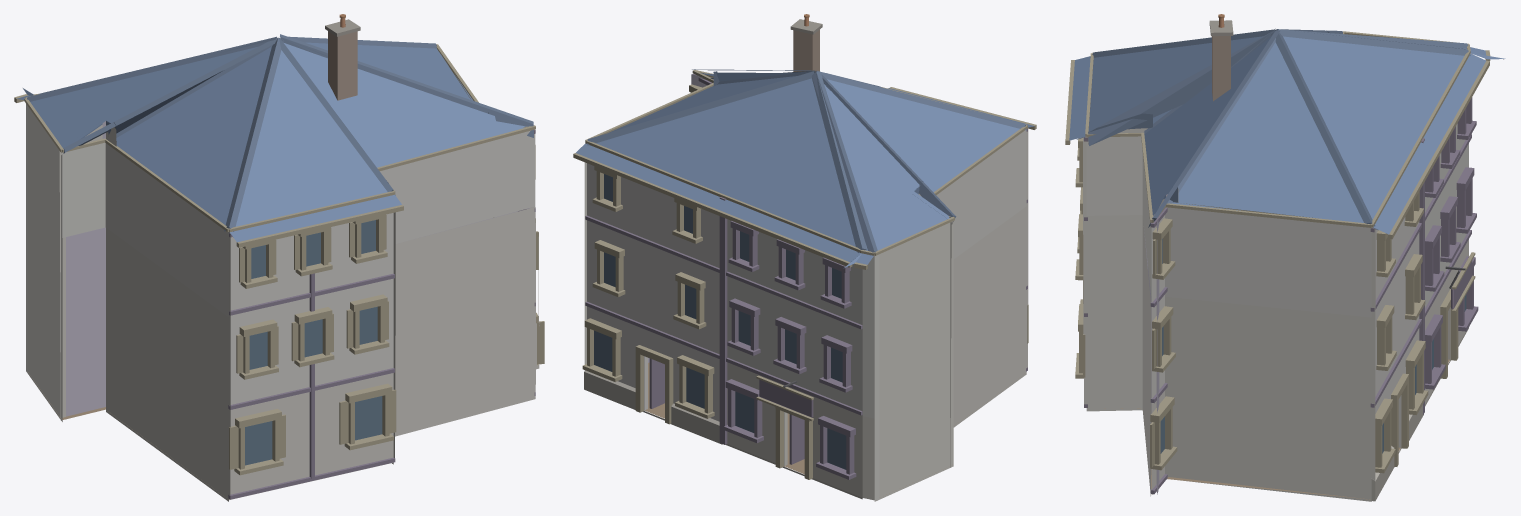
The model's file is b005_closed.glb.
3 views of the same model, side by side, from view 1: azimuth 30°, elevation 25°; view 2: azimuth 150°, elevation 25°; view 3: azimuth 270°, elevation 25° (orthographic). The views are drawn at different scales.
Parts seen in each view (by area): view 1: B005_visible; view 2: B005_visible; view 3: B005_visible.
Part boxes in pixels (left/top/right/bottom): B005_visible: left=14, top=14, right=544, bottom=501; B005_visible: left=573, top=14, right=1036, bottom=501; B005_visible: left=1065, top=14, right=1505, bottom=501.
Bounding box in the file's own units: 14.72 × 14.16 × 14.04.
